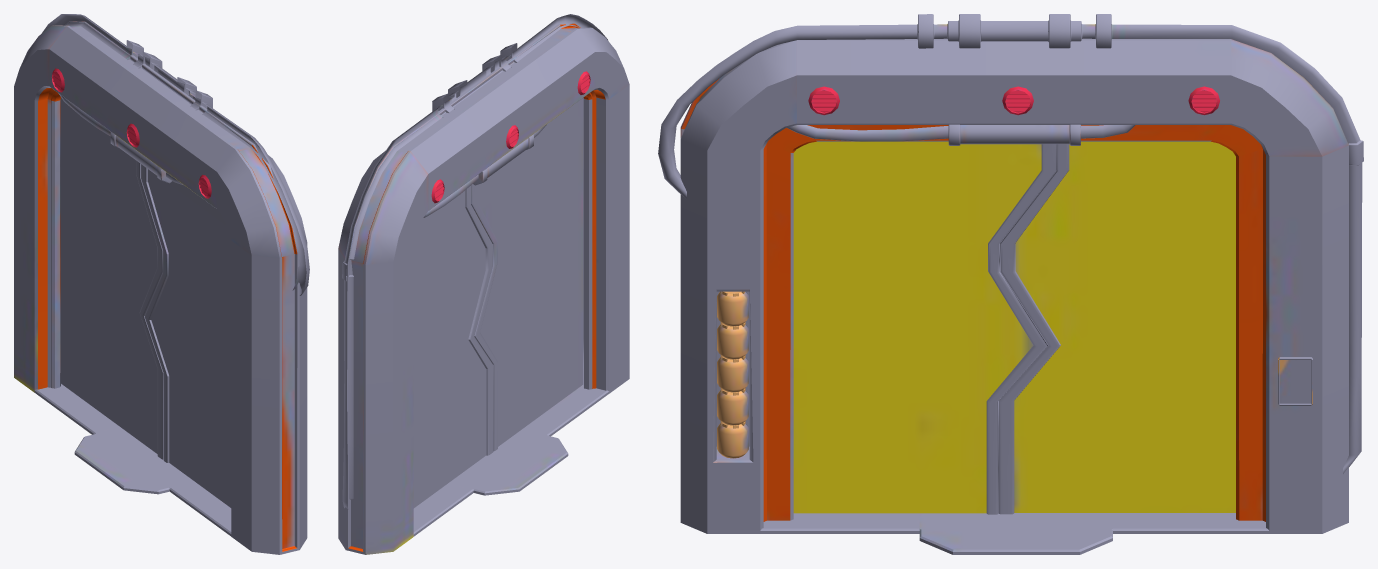
Rendered from door.obj.
3 views of the same model, side by side, from view 1: azimuth 30°, elevation 25°; view 2: azimuth 150°, elevation 25°; view 3: azimuth 270°, elevation 25° (orthographic). The views are drawn at different scales.
Parts seen in each view (by area): view 1: door_Mesh.024; view 2: door_Mesh.024; view 3: door_Mesh.024.
Boxes of the visible parts, left/top/right/bottom form: door_Mesh.024: left=14, top=14, right=309, bottom=554; door_Mesh.024: left=338, top=14, right=629, bottom=554; door_Mesh.024: left=658, top=14, right=1363, bottom=554.
Size of the model in its own units: 1.1 by 3.36 by 4.26.
Materials: 1 (1 with a texture image).
